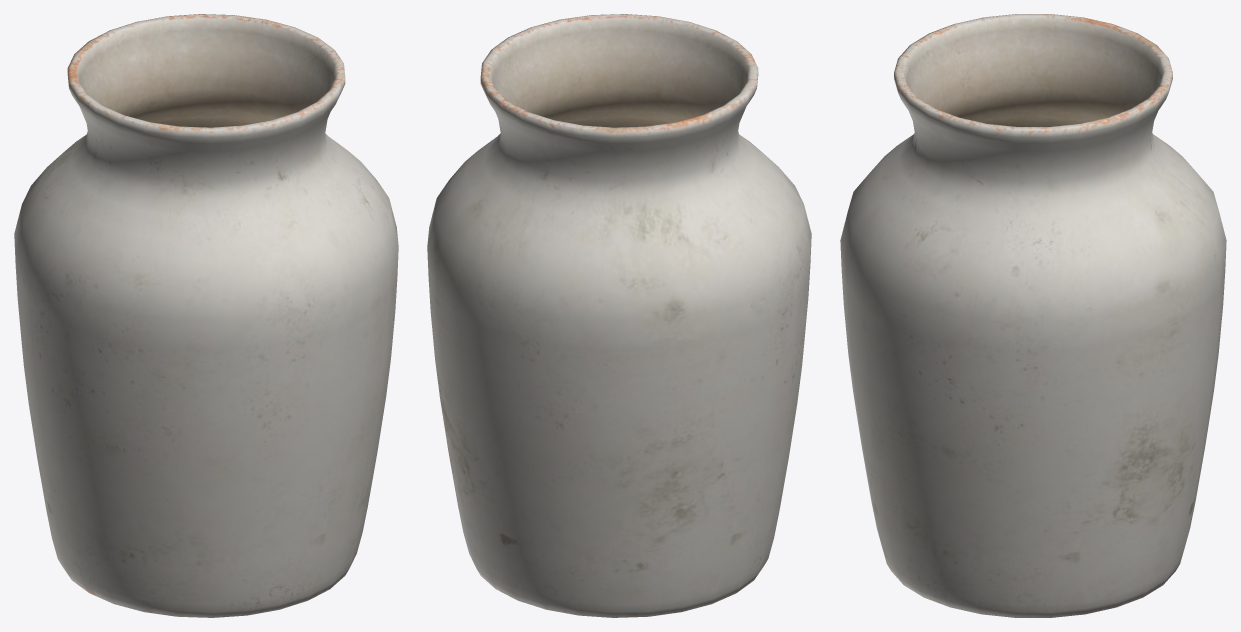
Rendered from ceramic_vase_02_1k.glb.
3 views of the same model, side by side, from view 1: azimuth 30°, elevation 25°; view 2: azimuth 150°, elevation 25°; view 3: azimuth 270°, elevation 25° (orthographic).
Parts seen in each view (by area): view 1: ceramic_vase_02; view 2: ceramic_vase_02; view 3: ceramic_vase_02.
Part boxes in pixels (x1,y1,x2,y2): ceramic_vase_02: (14,14,398,617); ceramic_vase_02: (427,14,811,617); ceramic_vase_02: (840,14,1226,617).
Size of the model in its own units: 0.2198 by 0.3093 by 0.2215.
Materials: 1 (1 with a texture image).
